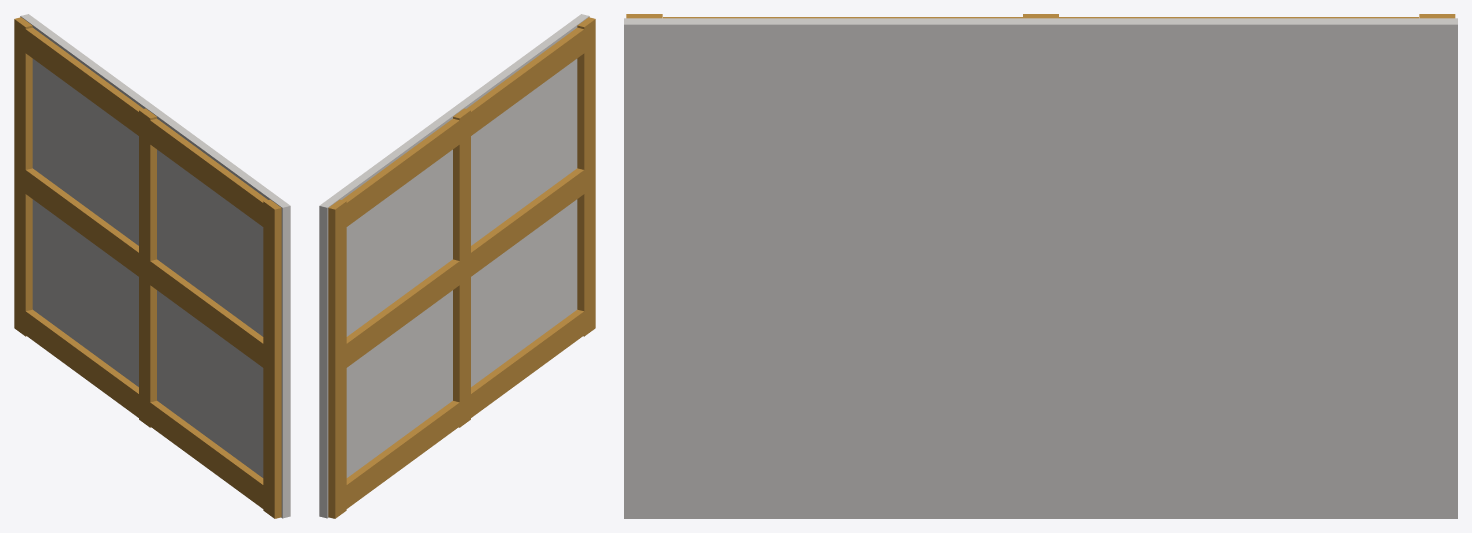
Rendered from cartel_template_001.fbx.
The picture shows the model from 3 angles, left to right: view 1: azimuth 30°, elevation 25°; view 2: azimuth 150°, elevation 25°; view 3: azimuth 270°, elevation 25°; orthographic projection. The views are drawn at different scales.
Parts seen in each view (by area): view 1: pCube1, pasted__pCube2 (×2), pasted__pCube3, pasted__pCube4, pCube2, pCube3; view 2: pCube1, pasted__pCube2 (×2), pasted__pCube3, pasted__pCube4, pCube2, pCube3; view 3: pCube1, pasted__pCube3.
Boxes of the visible parts, x1,y1,x2,y2 form: pCube1: [20, 14, 290, 518]; pasted__pCube2 (×2): [25, 168, 281, 518]; pasted__pCube3: [25, 27, 267, 226]; pasted__pCube4: [25, 309, 263, 508]; pCube2: [14, 17, 32, 336]; pCube3: [139, 108, 156, 427]; pCube1: [319, 14, 589, 518]; pasted__pCube2 (×2): [346, 17, 595, 367]; pasted__pCube3: [342, 27, 584, 226]; pasted__pCube4: [346, 309, 584, 508]; pCube2: [328, 199, 346, 518]; pCube3: [453, 108, 470, 427]; pCube1: [624, 18, 1457, 518]; pasted__pCube3: [663, 17, 1418, 18].
Bounding box in the file's own units: 0.2723 × 5.33 × 8.15.
